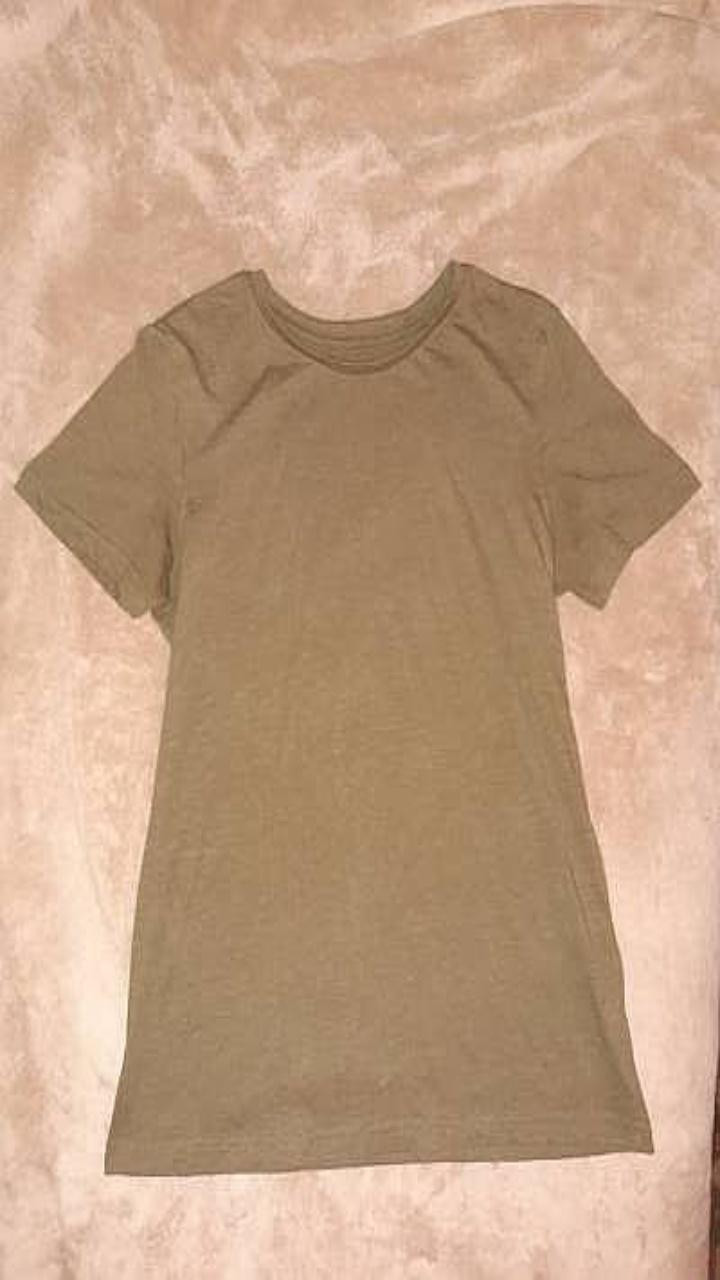T-Shirt: (15, 260, 699, 1173)
